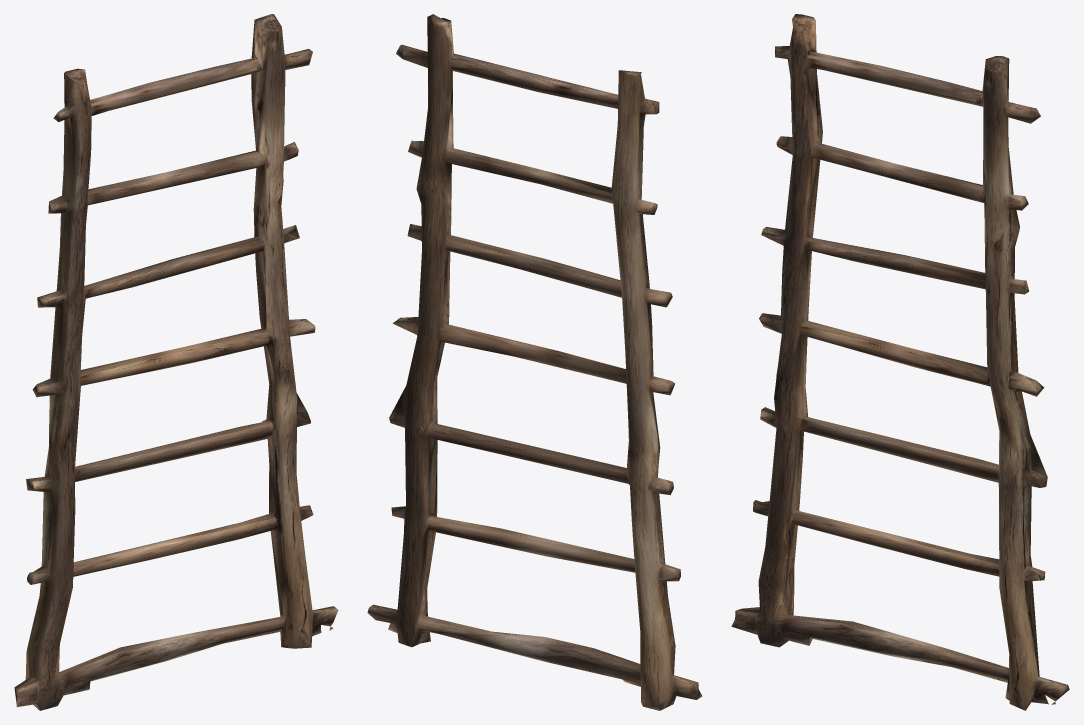
Rendered from leiter.glb.
3 views of the same model, side by side, from view 1: azimuth 30°, elevation 25°; view 2: azimuth 150°, elevation 25°; view 3: azimuth 330°, elevation 25° (orthographic).
Bounding box in the file's own units: 1.07 × 1.99 × 0.1187.
Materials: 1 (1 with a texture image).
